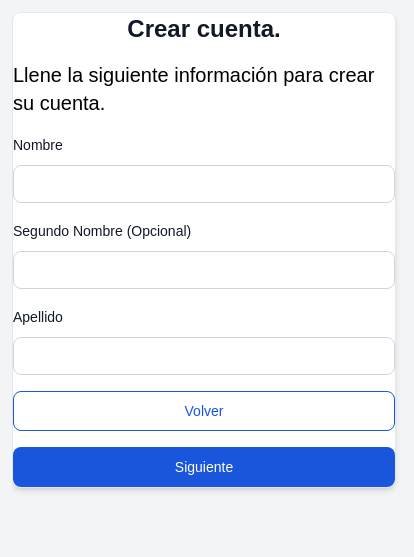
Scenario: PersonalInformation › Form validation › Given a user entering name and last name with less than 2 characters, show error
This screenshot has width=414, height=557.
Type "a" into the field with test id "firstName".
click(204, 184); type("a")  # box [13,165,395,203]
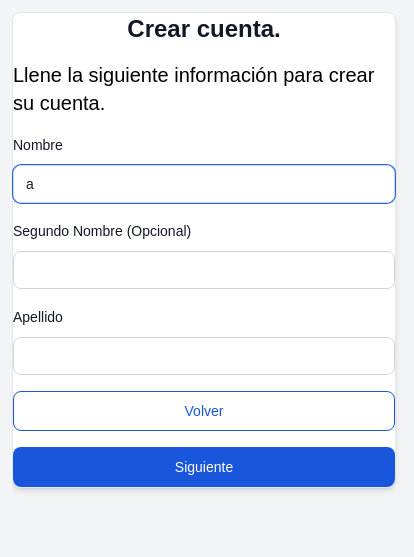
Type "a" into the field labelled "Apellido".
click(204, 356); type("a")  # box [13,337,395,375]
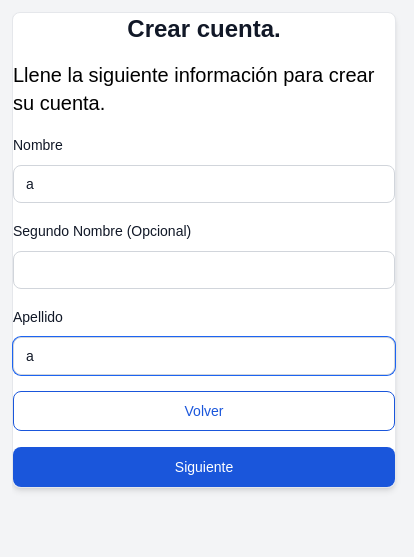
Click the button "Siguiente".
click(204, 467)  # box [13,447,395,487]
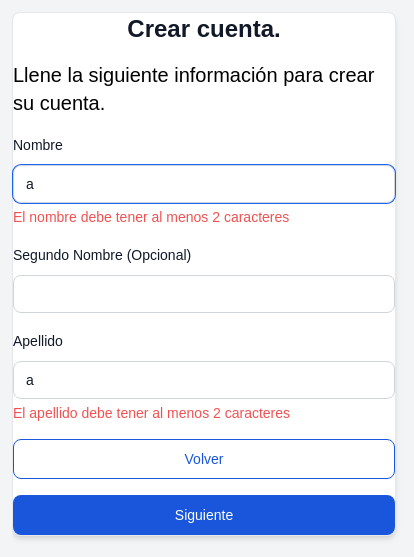
Result: the text "El nombre debe tener al menos 2 caracteres" is shown at [13,209,289,225]
Result: the text "El apellido debe tener al menos 2 caracteres" is shown at [13,405,290,421]
